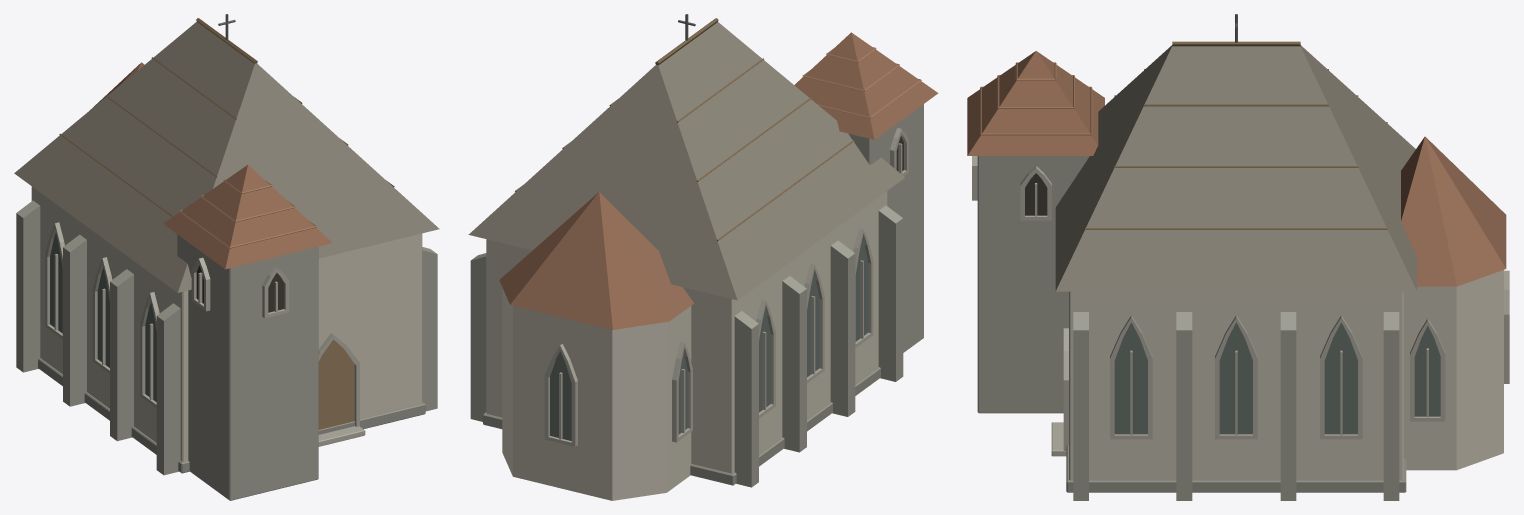
File: church_gothic.glb
3 renders of one model, left to right at view 1: azimuth 30°, elevation 25°; view 2: azimuth 150°, elevation 25°; view 3: azimuth 270°, elevation 25°, orthographic. The views are drawn at different scales.
Visible parts, largest first — view 1: church_gothic_fort_shingle, church_gothic_fort_masonry, church_gothic_fort_plaster, church_gothic_fort_roof, church_gothic_fort_stone_light, church_gothic_oak, church_gothic_settlement_glass, church_gothic_fort_stone_dark, church_gothic_oak_dark, church_gothic_fort_roof_light, church_gothic_black; view 2: church_gothic_fort_shingle, church_gothic_fort_plaster, church_gothic_fort_masonry, church_gothic_fort_roof, church_gothic_fort_stone_light, church_gothic_settlement_glass, church_gothic_fort_stone_dark, church_gothic_oak_dark, church_gothic_fort_roof_light; view 3: church_gothic_fort_shingle, church_gothic_fort_plaster, church_gothic_fort_masonry, church_gothic_fort_roof, church_gothic_settlement_glass, church_gothic_fort_stone_light, church_gothic_fort_stone_dark, church_gothic_oak_dark, church_gothic_fort_roof_light, church_gothic_black.
Part boxes in pixels (<box>): church_gothic_fort_shingle: <box>14,22,439,292</box>; church_gothic_fort_masonry: <box>16,200,437,500</box>; church_gothic_fort_plaster: <box>31,186,422,461</box>; church_gothic_fort_roof: <box>90,62,332,269</box>; church_gothic_fort_stone_light: <box>45,222,365,446</box>; church_gothic_oak: <box>318,339,354,429</box>; church_gothic_settlement_glass: <box>50,233,156,401</box>; church_gothic_fort_stone_dark: <box>38,358,425,473</box>; church_gothic_oak_dark: <box>59,18,394,217</box>; church_gothic_fort_roof_light: <box>179,179,316,248</box>; church_gothic_black: <box>196,265,284,312</box>; church_gothic_fort_shingle: <box>468,22,904,300</box>; church_gothic_fort_plaster: <box>486,191,887,500</box>; church_gothic_fort_masonry: <box>470,104,923,487</box>; church_gothic_fort_roof: <box>499,32,938,329</box>; church_gothic_fort_stone_light: <box>544,128,908,446</box>; church_gothic_settlement_glass: <box>550,238,868,440</box>; church_gothic_fort_stone_dark: <box>483,367,880,485</box>; church_gothic_oak_dark: <box>515,18,854,241</box>; church_gothic_fort_roof_light: <box>802,47,921,118</box>; church_gothic_fort_shingle: <box>1055,45,1416,291</box>; church_gothic_fort_plaster: <box>1069,270,1503,480</box>; church_gothic_fort_masonry: <box>977,156,1399,500</box>; church_gothic_fort_roof: <box>967,51,1506,286</box>; church_gothic_settlement_glass: <box>1114,322,1440,434</box>; church_gothic_fort_stone_light: <box>972,156,1509,456</box>; church_gothic_fort_stone_dark: <box>1066,445,1406,492</box>; church_gothic_oak_dark: <box>1085,41,1387,229</box>; church_gothic_fort_roof_light: <box>980,62,1092,135</box>; church_gothic_black: <box>1025,173,1047,215</box>.
Bounding box in the file's own units: 7.52 × 9.8 × 11.67.
